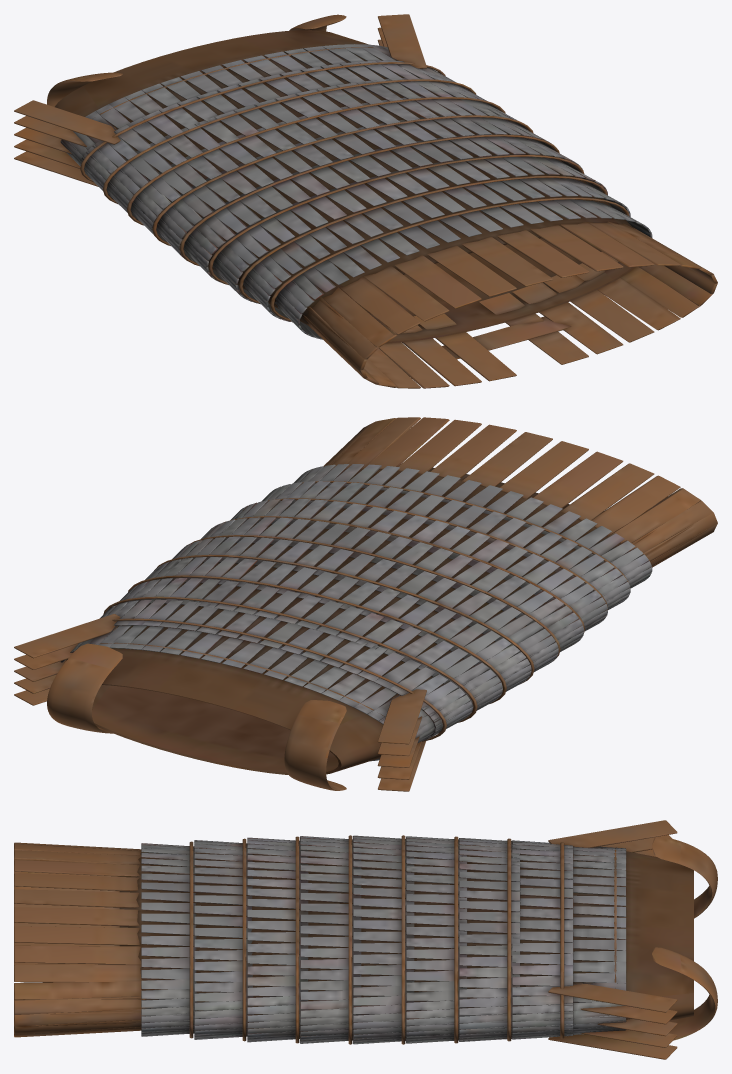
File: lamellar.glb
The picture shows the model from 3 angles, top to bottom: view 1: azimuth 30°, elevation 25°; view 2: azimuth 150°, elevation 25°; view 3: azimuth 270°, elevation 25°; orthographic projection.
Visible parts, largest first — view 1: lamellar; view 2: lamellar; view 3: lamellar.
Part boxes in pixels (left/top/right/bottom): lamellar: left=14, top=14, right=717, bottom=388; lamellar: left=14, top=417, right=717, bottom=791; lamellar: left=14, top=820, right=717, bottom=1059.
Size of the model in its own units: 0.4269 by 0.1024 by 0.663.
1 material, 1 textured.
